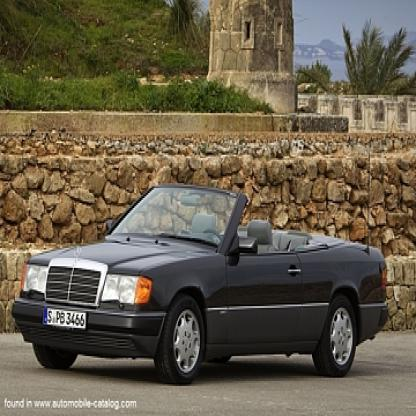Vehicle: (8, 180, 392, 388)
